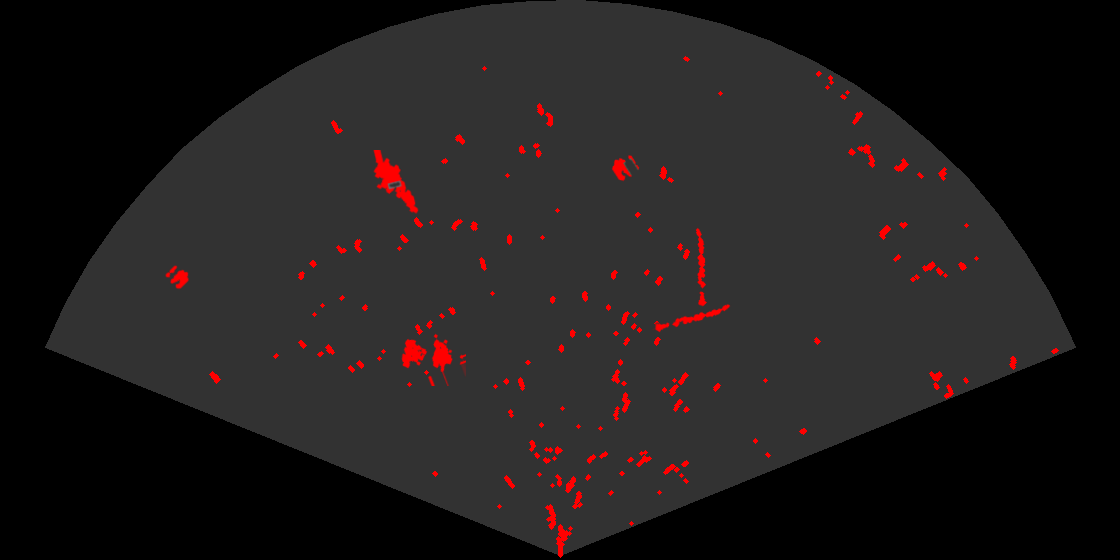ball: (610, 154, 641, 183), (164, 264, 191, 291)
cage: (400, 332, 466, 386)
chain: (651, 303, 732, 334), (694, 227, 709, 307)
frogman: (372, 150, 420, 216)
